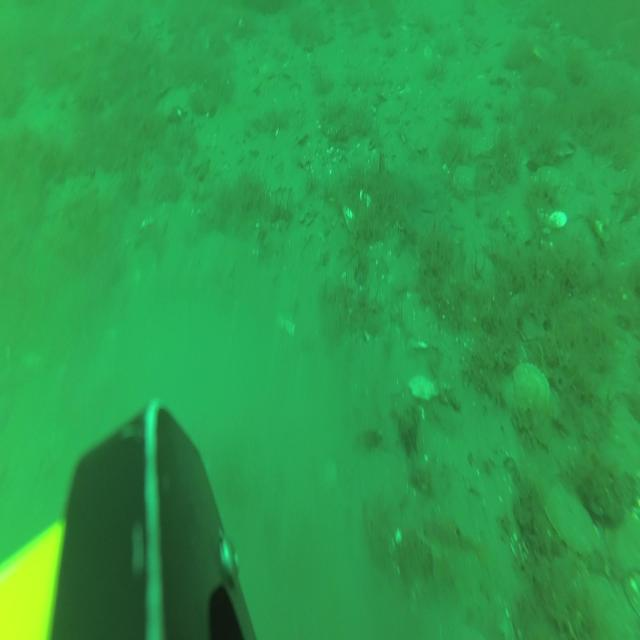scallop: (544, 479, 604, 554), (506, 283, 547, 344), (400, 290, 442, 346), (512, 357, 551, 413), (534, 115, 578, 159), (528, 162, 574, 202), (451, 162, 482, 198), (406, 370, 440, 402)
